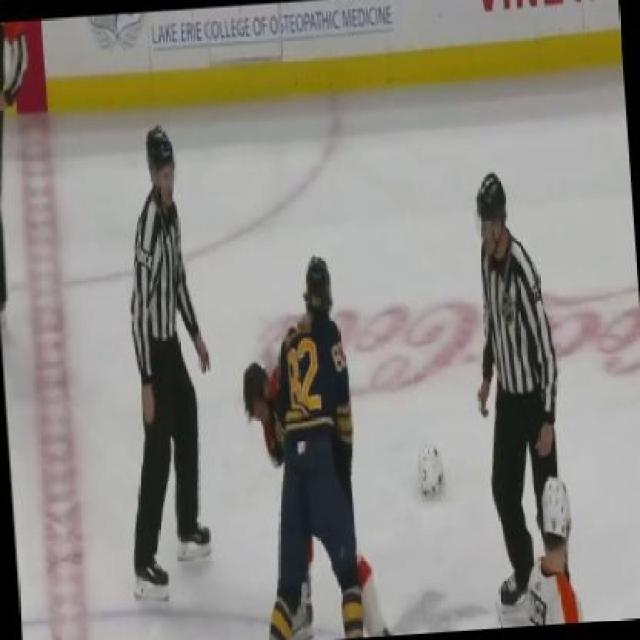fight: (217, 244, 397, 638)
non-fight: (448, 165, 592, 632), (100, 123, 232, 589)
